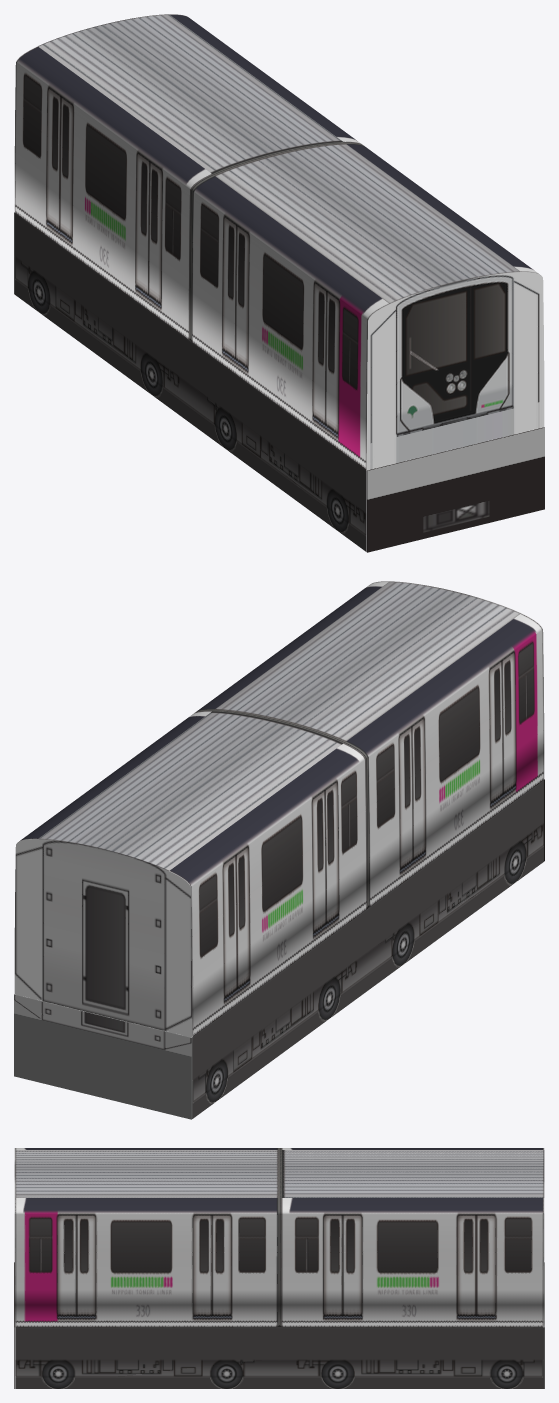
Rendered from car1.glb.
3 views of the same model, one above another, from view 1: azimuth 30°, elevation 25°; view 2: azimuth 150°, elevation 25°; view 3: azimuth 270°, elevation 25° (orthographic). The views are drawn at different scales.
Parts seen in each view (by area): view 1: nipporitoneri-330-car1; view 2: nipporitoneri-330-car1; view 3: nipporitoneri-330-car1.
Boxes of the visible parts, x1,y1,x2,y2 form: nipporitoneri-330-car1: (14, 14, 544, 552); nipporitoneri-330-car1: (14, 581, 544, 1119); nipporitoneri-330-car1: (14, 1148, 544, 1388).
Bounding box in the file's own units: 2.49 × 3.33 × 8.58.
8 materials, 7 textured.
